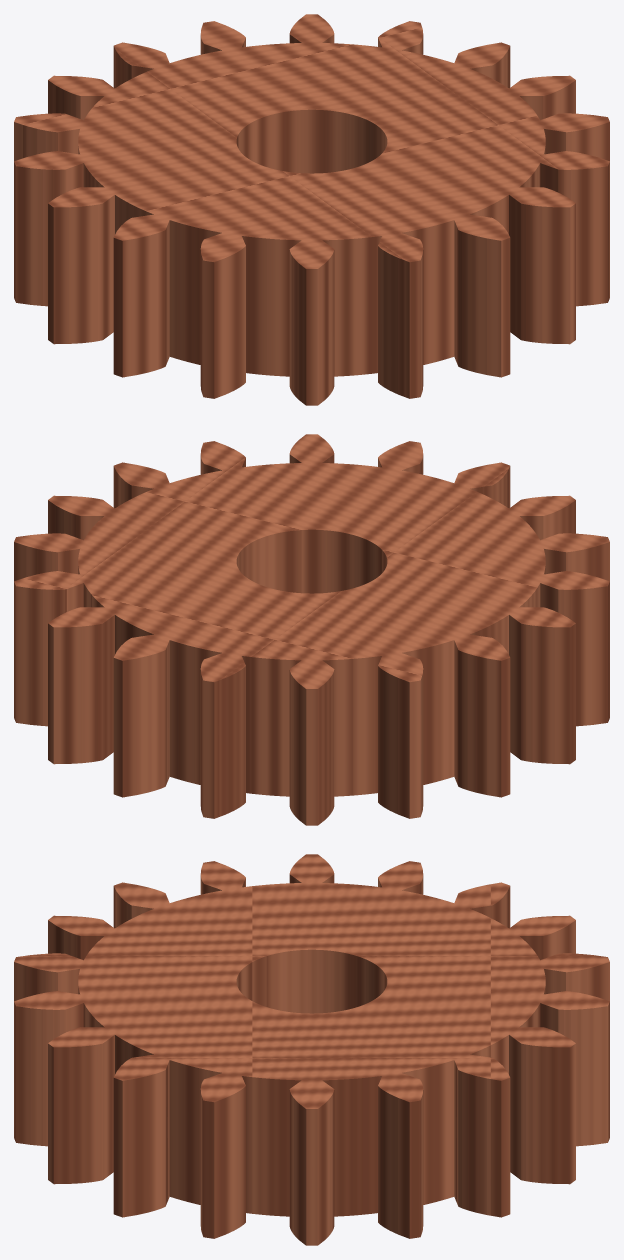
The model's file is sun.glb.
The picture shows the model from 3 angles, top to bottom: view 1: azimuth 30°, elevation 25°; view 2: azimuth 150°, elevation 25°; view 3: azimuth 270°, elevation 25°; orthographic projection.
Size of the model in its own units: 4e-05 by 1e-05 by 3.95e-05.
1 material, 1 textured.
